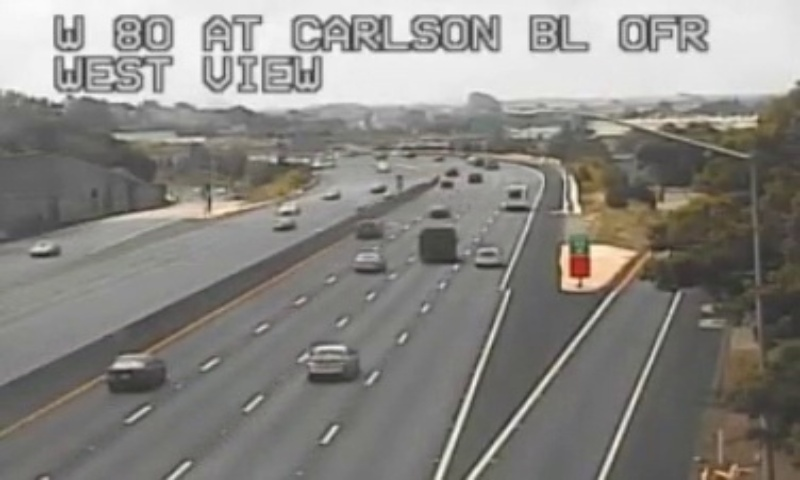car: (106, 353, 165, 391), (306, 344, 357, 380), (351, 252, 385, 272), (473, 247, 503, 267)
